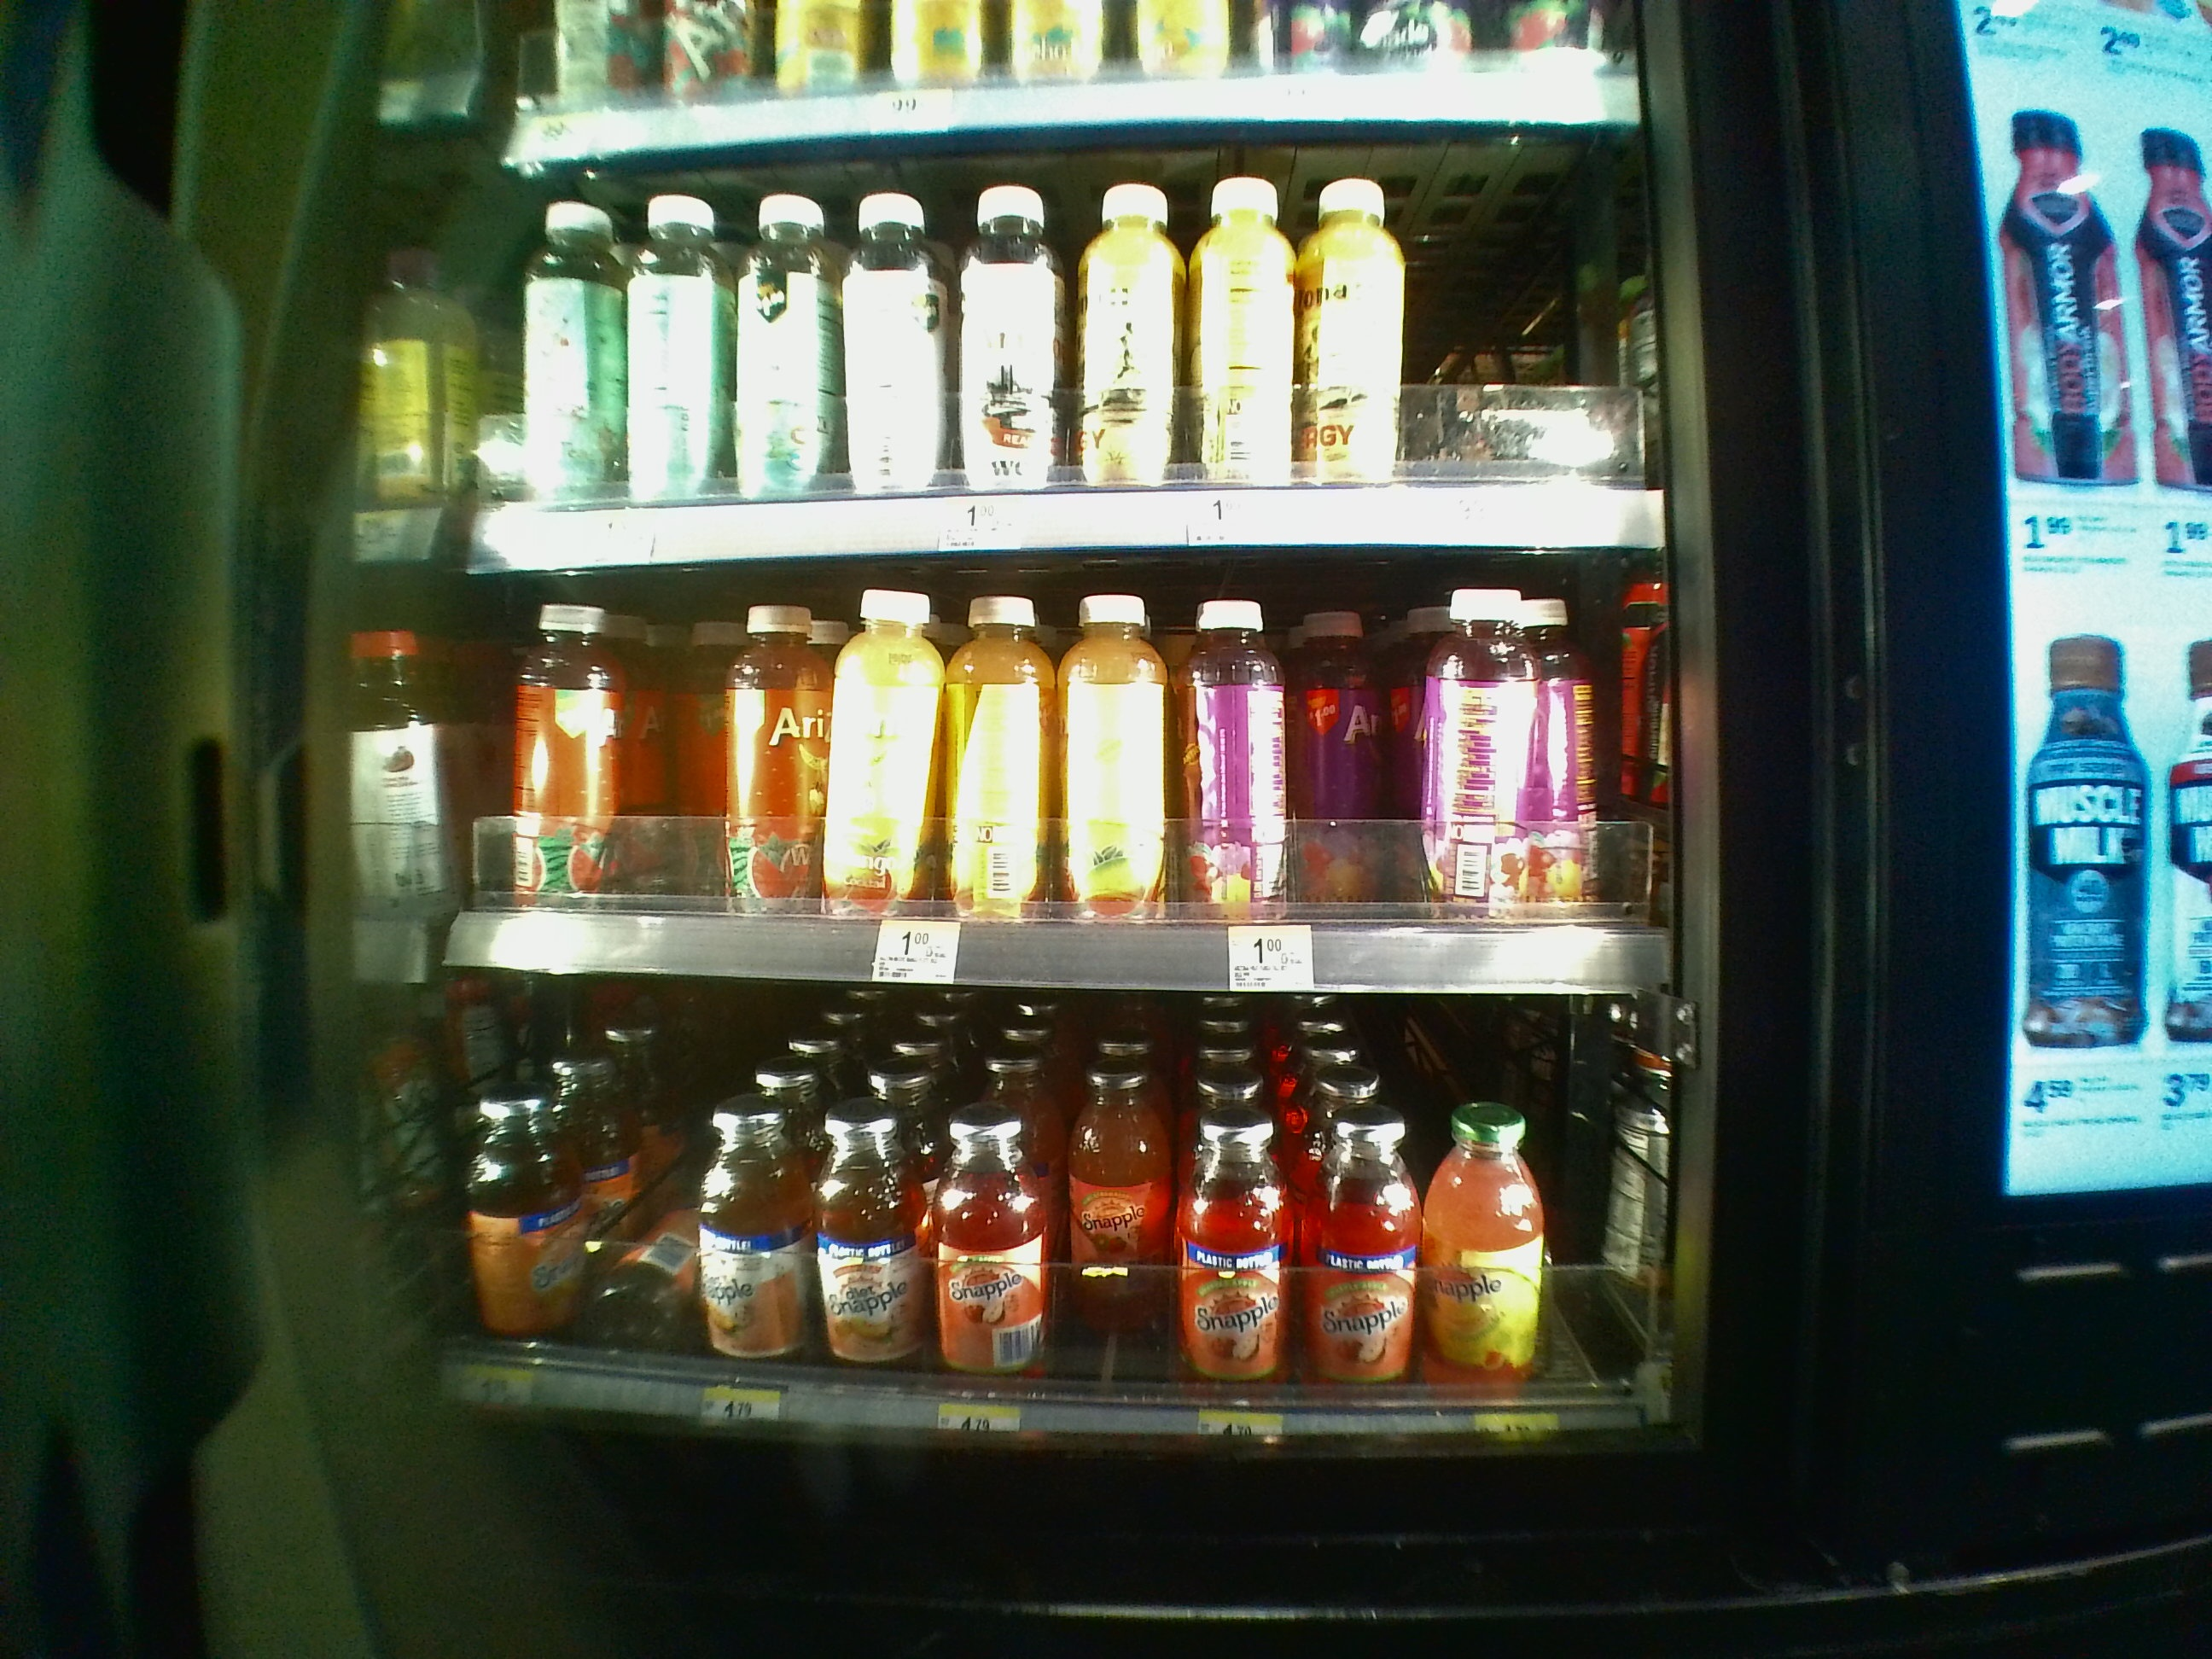shelf: (449, 1000, 1676, 1530), (446, 542, 1663, 988)
